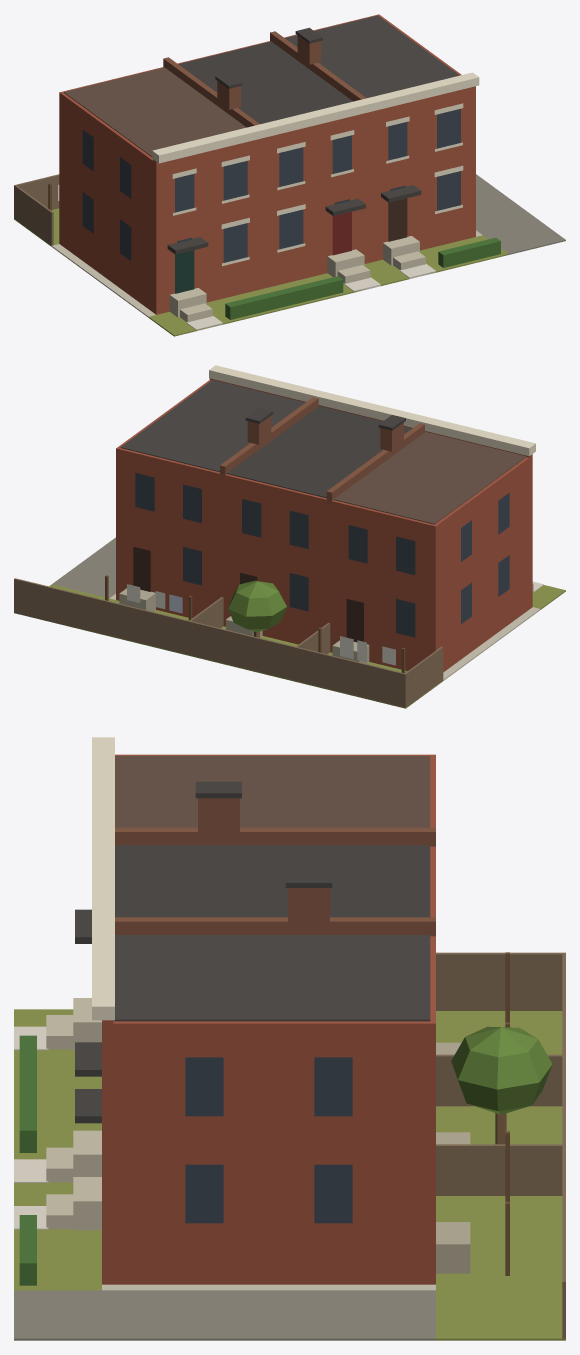
Rendered from terrace.glb.
The picture shows the model from 3 angles, top to bottom: view 1: azimuth 30°, elevation 25°; view 2: azimuth 150°, elevation 25°; view 3: azimuth 270°, elevation 25°; orthographic projection. The views are drawn at different scales.
Visible parts, largest first — view 1: terrace; view 2: terrace; view 3: terrace.
Part boxes in pixels (x1=…): terrace: x1=14, y1=14, x2=565, y2=336; terrace: x1=14, y1=365, x2=565, y2=708; terrace: x1=14, y1=737, x2=565, y2=1340.
Bounding box in the file's own units: 24 × 10.87 × 17.
